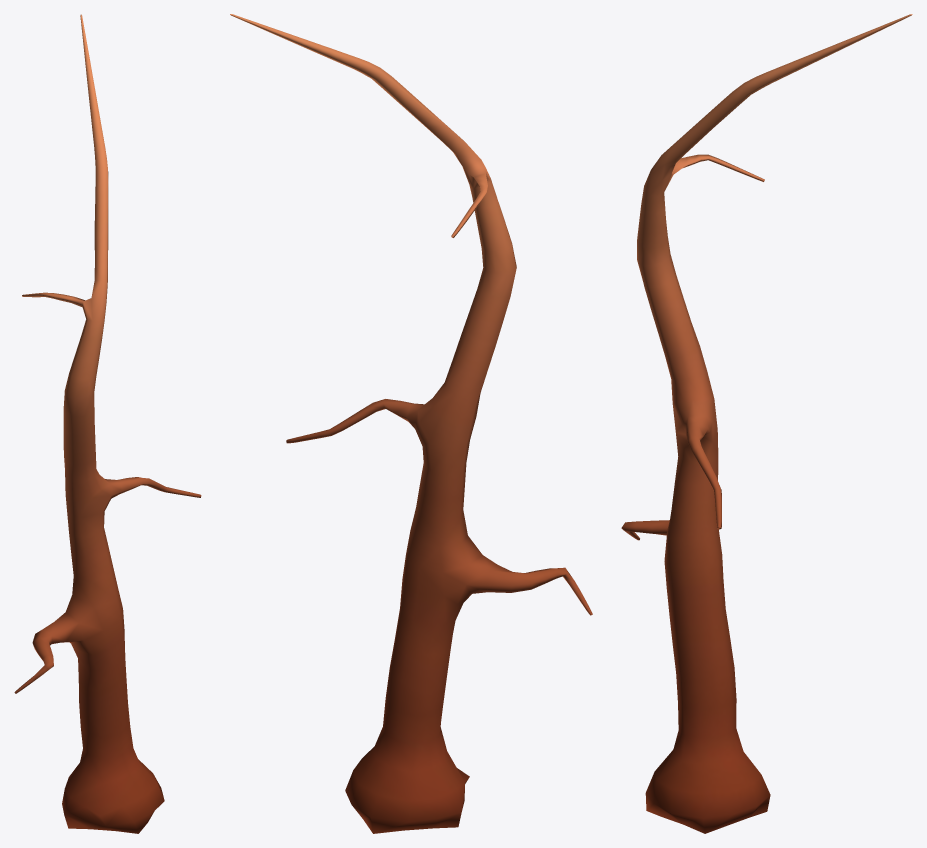
Rendered from Trunk.fbx.
The picture shows the model from 3 angles, left to right: view 1: azimuth 30°, elevation 25°; view 2: azimuth 150°, elevation 25°; view 3: azimuth 270°, elevation 25°; orthographic projection. The views are drawn at different scales.
Parts seen in each view (by area): view 1: Trunk; view 2: Trunk; view 3: Trunk.
Part boxes in pixels (left/top/right/bottom): Trunk: left=14, top=14, right=201, bottom=833; Trunk: left=230, top=14, right=592, bottom=833; Trunk: left=621, top=14, right=912, bottom=833.
Size of the model in its own units: 239 by 747 by 236.
